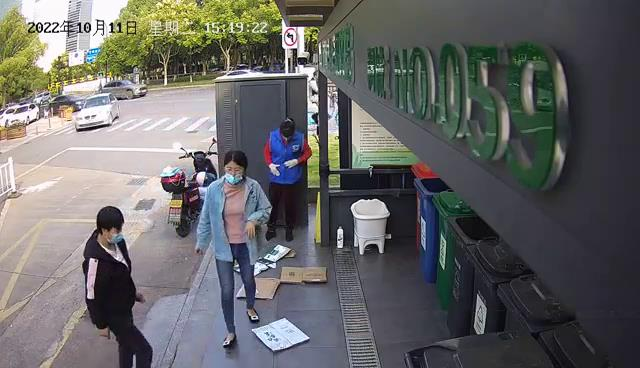person: (81, 205, 154, 368)
worker: (194, 149, 273, 348), (263, 116, 313, 243)
zhizhipin: (249, 316, 311, 351), (253, 245, 296, 278), (236, 276, 281, 300), (278, 264, 329, 284)
